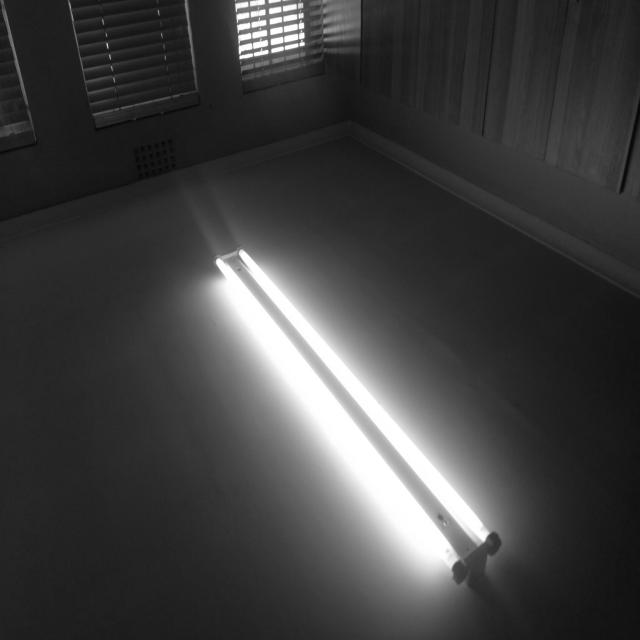light: (214, 246, 499, 584)
